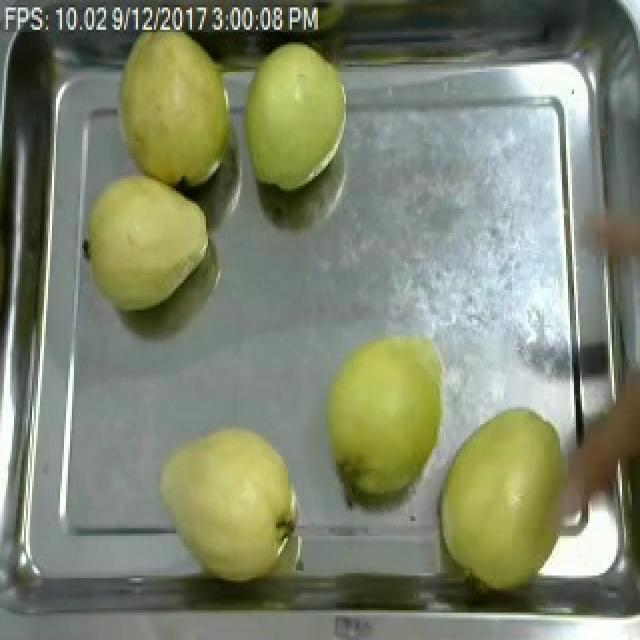Fruit: (428, 399, 588, 603), (152, 417, 310, 590), (314, 325, 458, 501), (106, 15, 244, 198), (76, 162, 218, 322), (230, 27, 358, 201)
